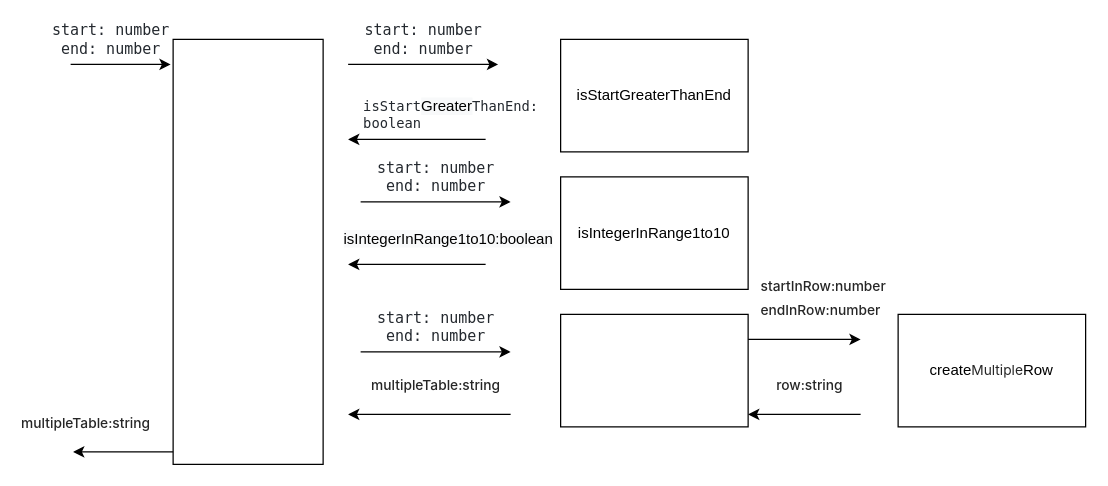
The diagram is 1108 pixels wide and 486 high, and some of its shapes have lost their labels. Here are the shapes that lost their labels. From the top down, the box of each, then its label:
(172, 38, 323, 464): render
(559, 313, 748, 427): create Multiple Table
